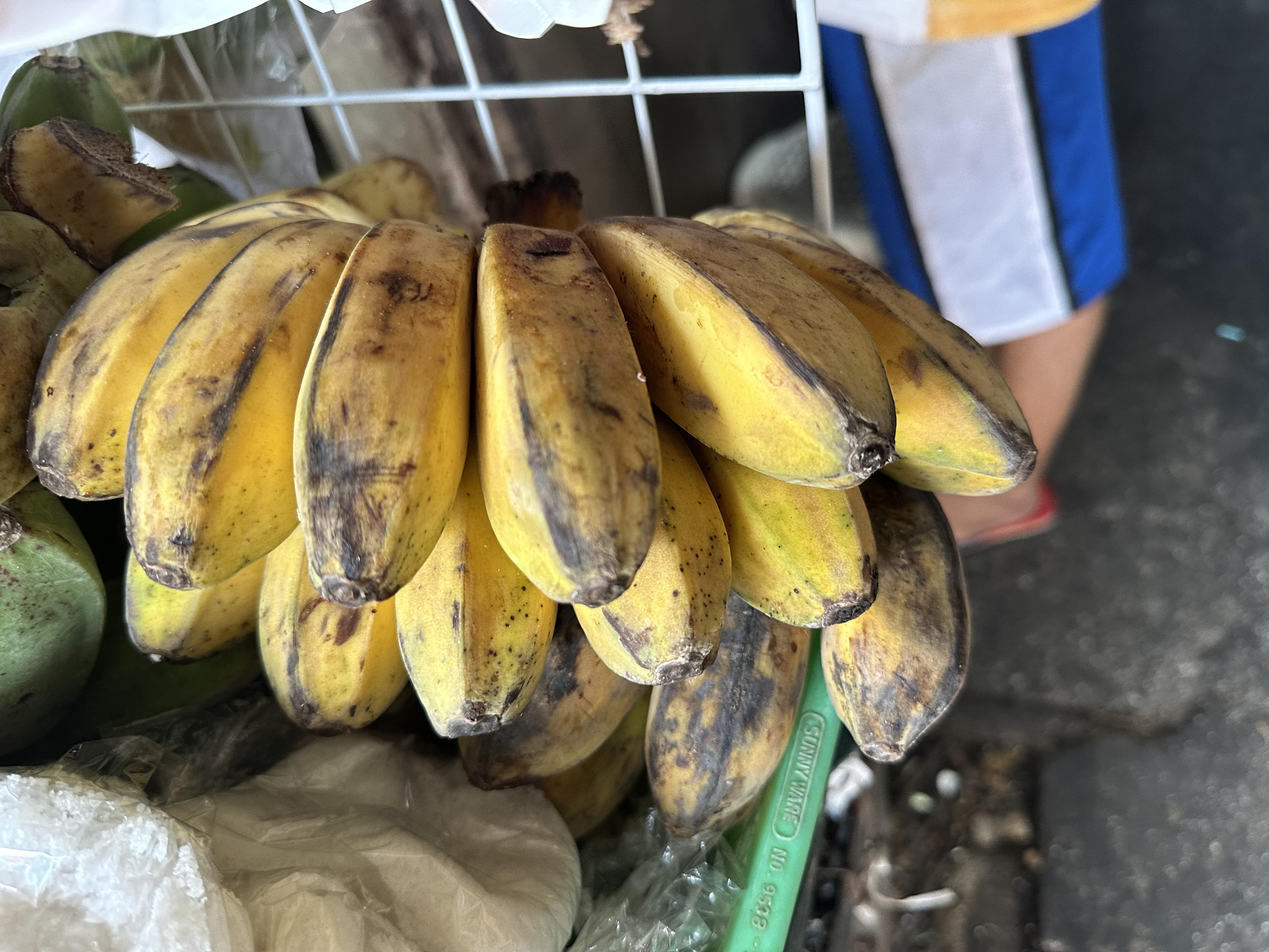ripe: (29, 154, 1037, 739)
